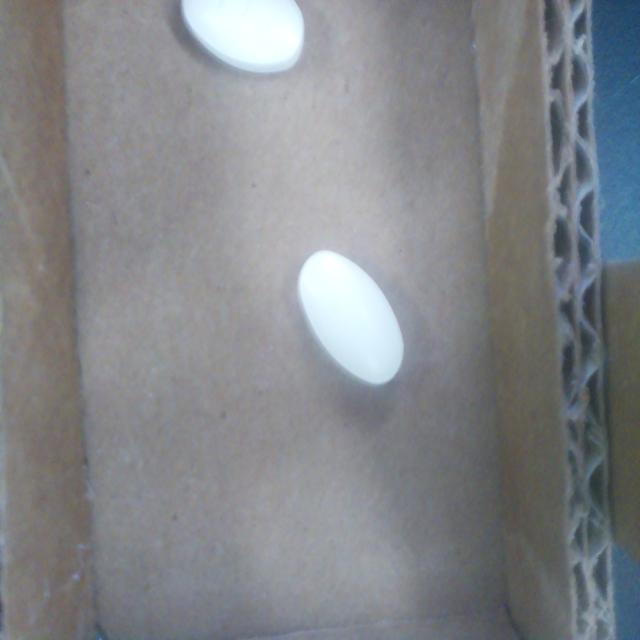pill: (298, 249, 404, 386), (182, 0, 308, 74)
